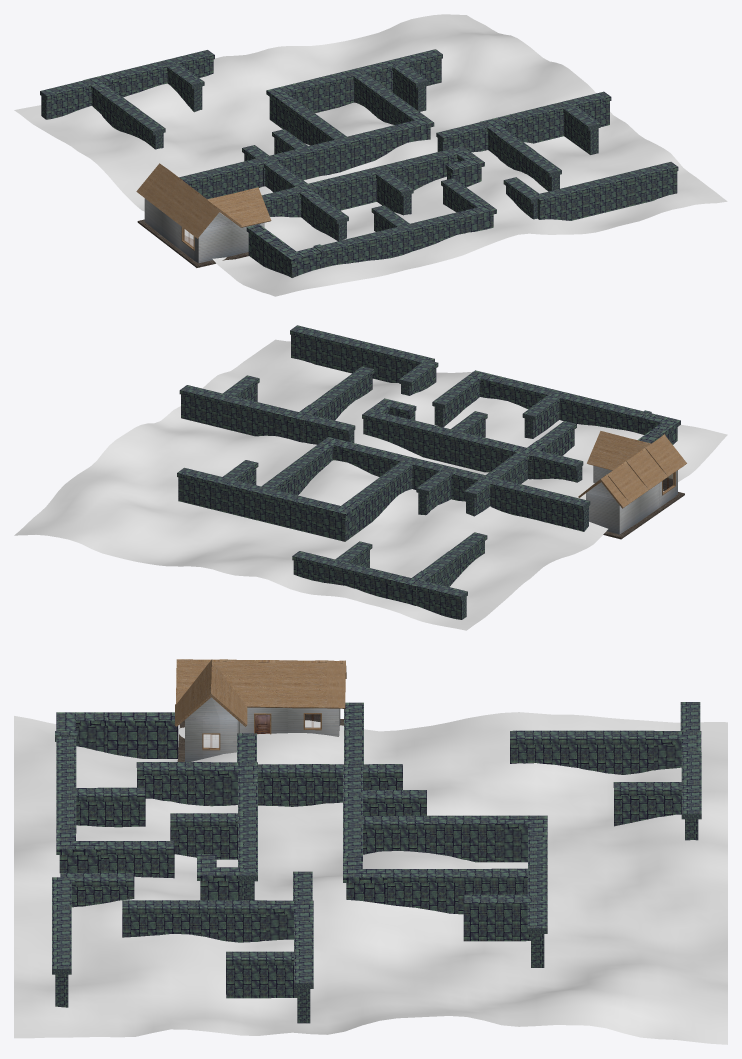
Rendered from level8(2).glb.
3 views of the same model, one above another, from view 1: azimuth 30°, elevation 25°; view 2: azimuth 150°, elevation 25°; view 3: azimuth 270°, elevation 25° (orthographic). The views are drawn at different scales.
Parts seen in each view (by area): view 1: Plane.002; view 2: Plane.002; view 3: Plane.002.
Boxes of the visible parts, left/top/right/bottom form: Plane.002: left=14, top=14, right=727, bottom=296; Plane.002: left=14, top=325, right=727, bottom=630; Plane.002: left=14, top=659, right=727, bottom=1044.
Size of the model in its own units: 317 by 40.94 by 304.
Materials: 9 (9 with a texture image).
